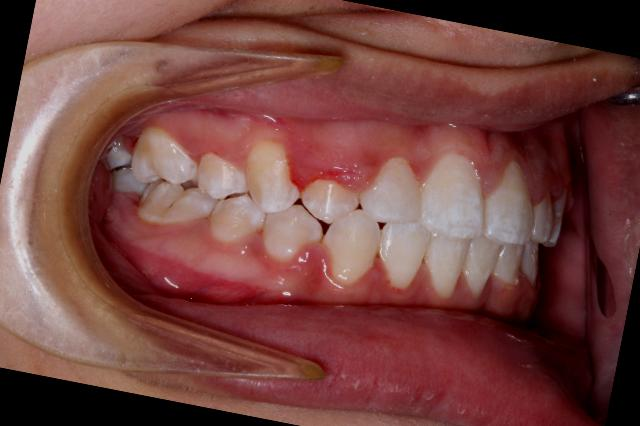canine class I: (253, 166, 400, 300)
molar class III 1/2: (116, 126, 230, 247)
